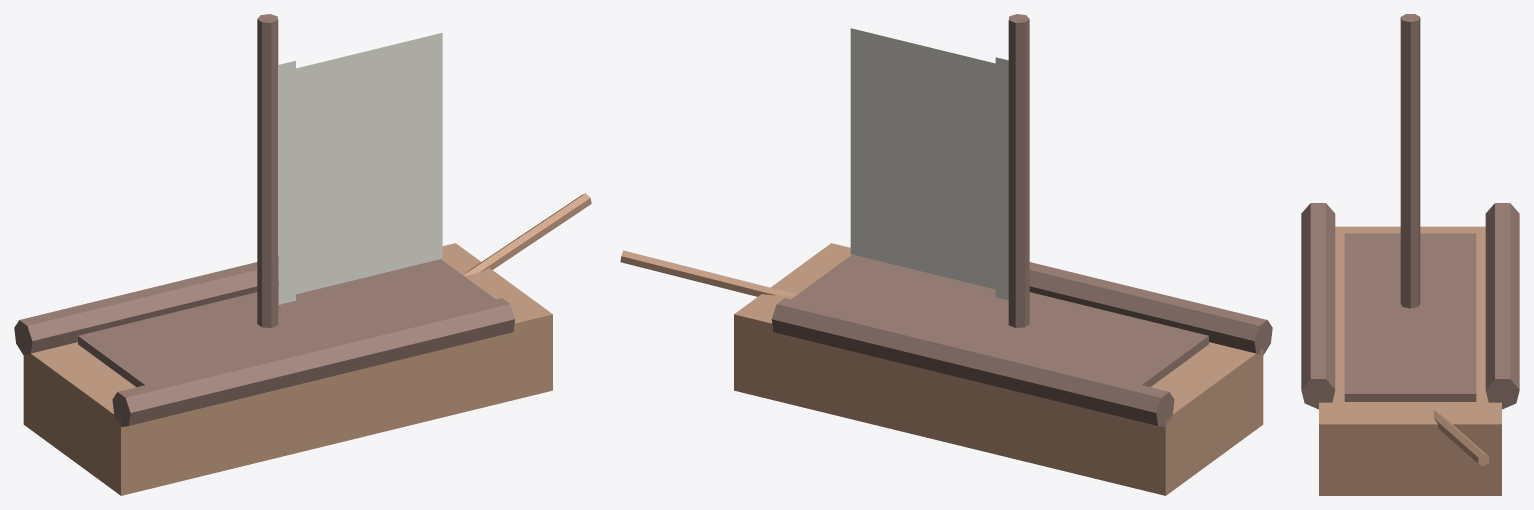
Rendered from barca.glb.
3 views of the same model, side by side, from view 1: azimuth 30°, elevation 25°; view 2: azimuth 150°, elevation 25°; view 3: azimuth 270°, elevation 25° (orthographic). The views are drawn at different scales.
Parts seen in each view (by area): view 1: barca; view 2: barca; view 3: barca.
Part boxes in pixels (bbox=[...]): barca: bbox=[14, 14, 591, 495]; barca: bbox=[620, 14, 1272, 495]; barca: bbox=[1301, 14, 1519, 495].
Bounding box in the file's own units: 4.11 × 2.79 × 1.49.
